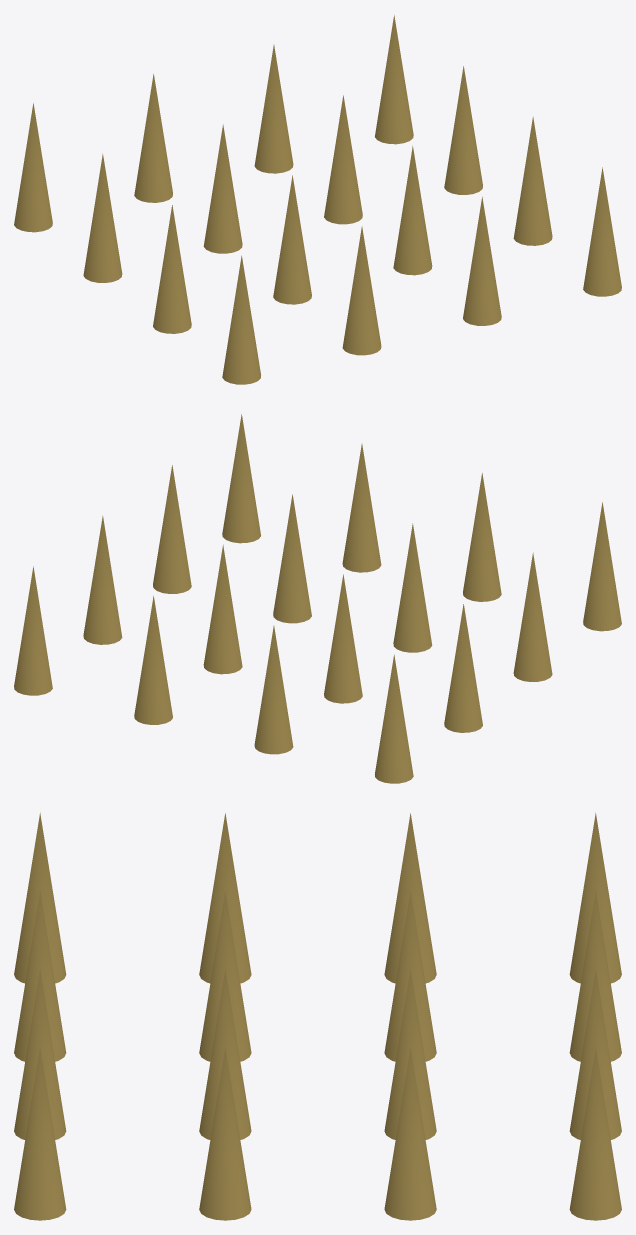
Rendered from Grass_Trap Corn.fbx.
The picture shows the model from 3 angles, top to bottom: view 1: azimuth 30°, elevation 25°; view 2: azimuth 150°, elevation 25°; view 3: azimuth 270°, elevation 25°; orthographic projection. The views are drawn at different scales.
Parts seen in each view (by area): view 1: Cone.001; view 2: Cone.001; view 3: Cone.001.
Boxes of the visible parts, x1=… form: Cone.001: x1=14, y1=15, x2=621, y2=384; Cone.001: x1=14, y1=414, x2=621, y2=783; Cone.001: x1=14, y1=812, x2=621, y2=1220.
Size of the model in its own units: 68.18 by 20.1 by 68.18.
1 material, 1 textured.
